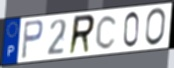0: (123, 10, 140, 49)
2: (46, 18, 68, 58)
C: (94, 13, 119, 51)
O: (144, 7, 167, 48)
P: (20, 19, 45, 61)
R: (67, 13, 97, 57)
